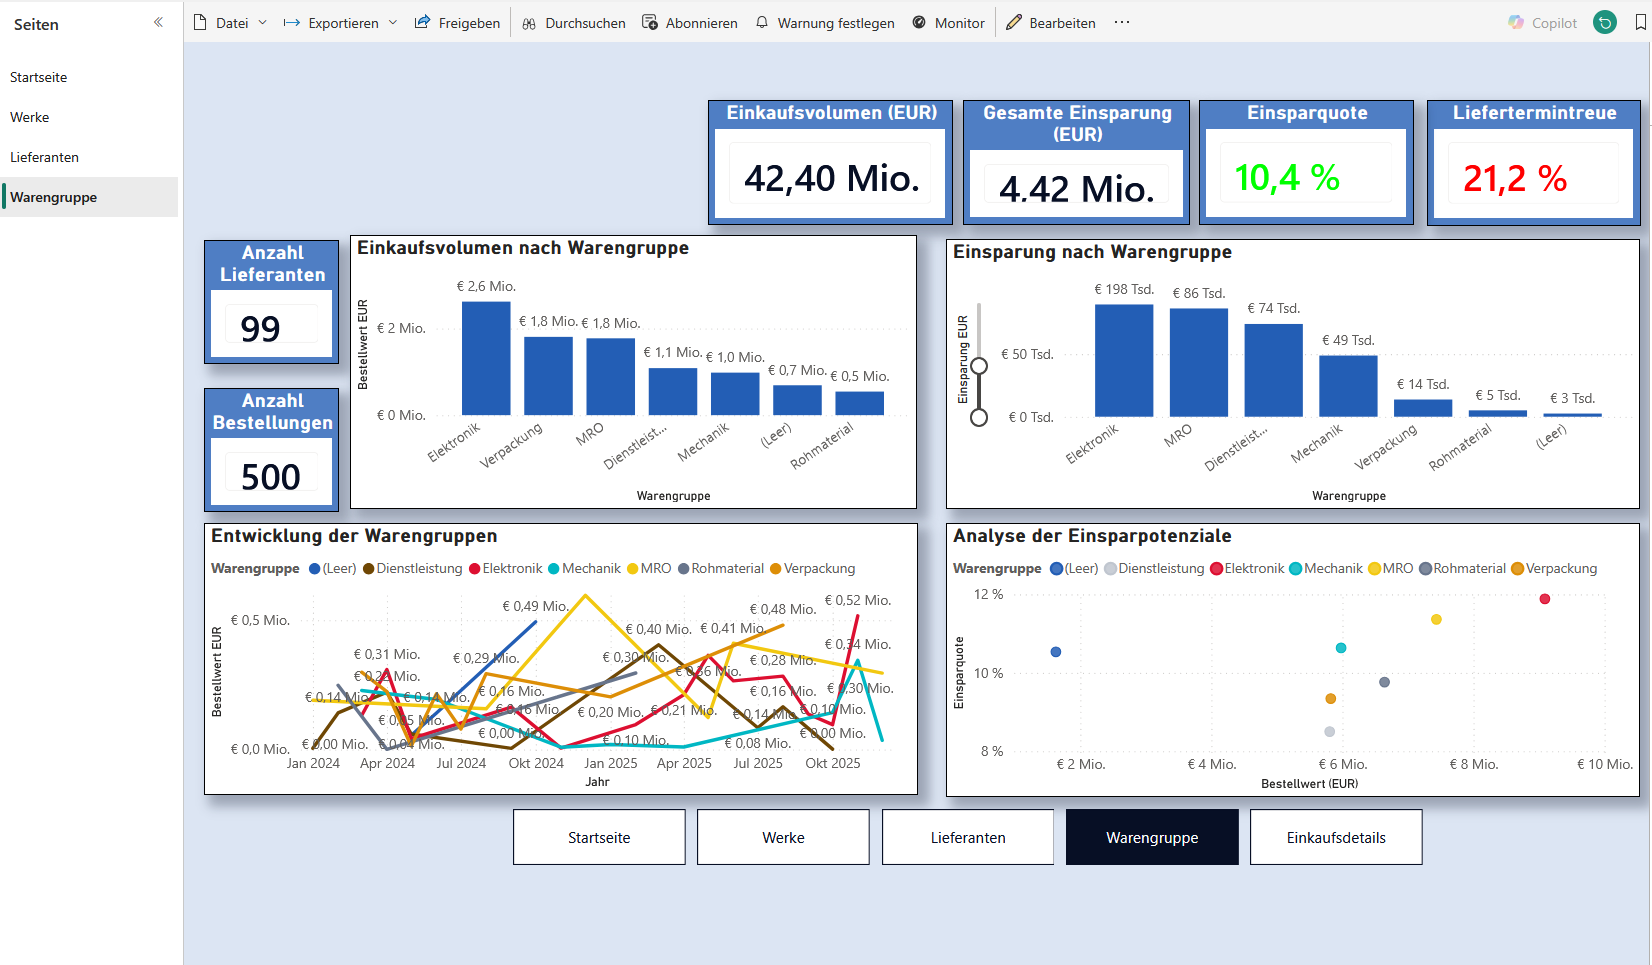

The dashboard page shown, as its layout file describes it:
{"tool":"powerbi","page":{"name":"Warengruppe","canvas":[1280,720],"ordinal":3},"visuals":[{"type":"cardVisual","title":"Liefertermintreue","fields":{"Data":["Einkaufsdaten.Liefertermintreue"]},"box":[1086.4,50.6,186.7,109.9],"z":1000},{"type":"cardVisual","title":"Einkaufsvolumen (EUR)","fields":{"Data":["Einkaufsdaten.Gesamt Einkaufsvolumen EUR"]},"box":[458.2,50.9,213.6,109.1],"z":2000},{"type":"cardVisual","title":"Gesamte Einsparung (EUR)","fields":{"Data":["Einkaufsdaten.Gesamte Einsparung"]},"box":[680.9,50.6,198.4,108.9],"z":3000},{"type":"cardVisual","title":"Einsparquote","fields":{"Data":["Einkaufsdaten.Einsparquote"]},"box":[887.1,50.6,187.7,108.9],"z":4000},{"type":"cardVisual","title":"Anzahl Bestellungen","fields":{"Data":["Einkaufsdaten.Anzahl Bestellungen"]},"box":[17.8,301.9,118,108.4],"z":5000},{"type":"cardVisual","title":"Anzahl Lieferanten","fields":{"Data":["Einkaufsdaten.Anzahl Lieferanten"]},"box":[17.8,172.9,118,108.4],"z":6000},{"type":"columnChart","title":"Einkaufsvolumen nach Warengruppe","fields":{"Category":["Einkaufsdaten.Warengruppe"],"Y":["Sum(Einkaufsdaten.Bestellwert Euro)"]},"box":[145.3,168.8,495.3,239.1],"z":7000},{"type":"columnChart","title":"Einsparung nach Warengruppe","fields":{"Category":["Einkaufsdaten.Warengruppe"],"Y":["Sum(Einkaufsdaten.Einsparung EUR)"]},"box":[665.6,171.9,606.2,235.9],"z":8000},{"type":"lineChart","title":"Entwicklung der Warengruppen","fields":{"Category":["Einkaufsdaten.Bestelldatum.Variation.Datumshierarchie.Jahr","Einkaufsdaten.Bestelldatum.Variation.Datumshierarchie.Monat"],"Series":["Einkaufsdaten.Warengruppe"],"Y":["Sum(Einkaufsdaten.Bestellwert Euro)"]},"box":[17.2,420.3,623.4,237.5],"z":9000},{"type":"scatterChart","title":"Analyse der Einsparpotenziale","fields":{"Category":["Einkaufsdaten.Warengruppe"],"Series":["Einkaufsdaten.Warengruppe"],"X":["Sum(Einkaufsdaten.Bestellwert Euro)"],"Y":["Einkaufsdaten.Einsparquote"]},"box":[665.6,420.3,606.2,239.1],"z":10000},{"type":"pageNavigator","box":[287.4,670.2,799.9,49.8],"z":11000}]}

Visuals, with their boxes on the page's 1280x720 design canvas (x1, y1, x2, y2). These are canvas units, not pixel positions in the 1652x965 screenshot, which may show the page scaled, cropped or inside an application window:
"Liefertermintreue" cardVisual: 1086:51:1273:160
"Einkaufsvolumen (EUR)" cardVisual: 458:51:672:160
"Gesamte Einsparung (EUR)" cardVisual: 681:51:879:160
"Einsparquote" cardVisual: 887:51:1075:160
"Anzahl Bestellungen" cardVisual: 18:302:136:410
"Anzahl Lieferanten" cardVisual: 18:173:136:281
"Einkaufsvolumen nach Warengruppe" columnChart: 145:169:641:408
"Einsparung nach Warengruppe" columnChart: 666:172:1272:408
"Entwicklung der Warengruppen" lineChart: 17:420:641:658
"Analyse der Einsparpotenziale" scatterChart: 666:420:1272:659
pageNavigator: 287:670:1087:720
